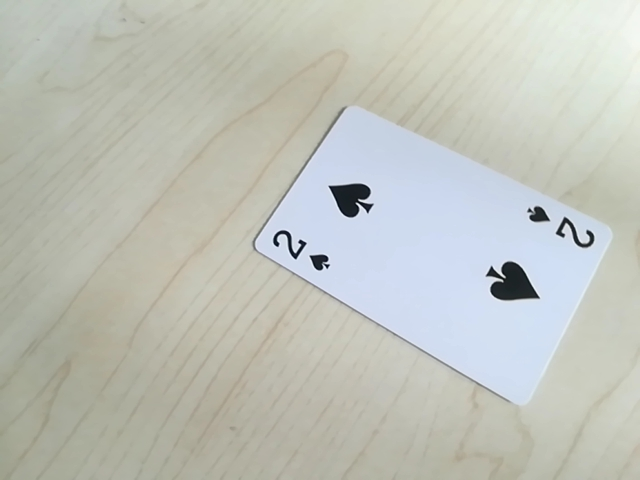ht 2: (523, 201, 601, 254), (263, 225, 333, 275)
